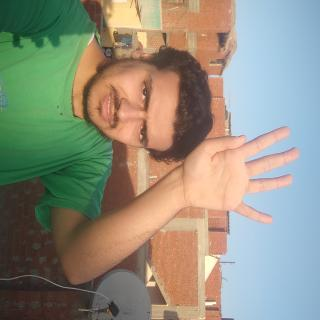SHEEN: (89, 21, 170, 188)
